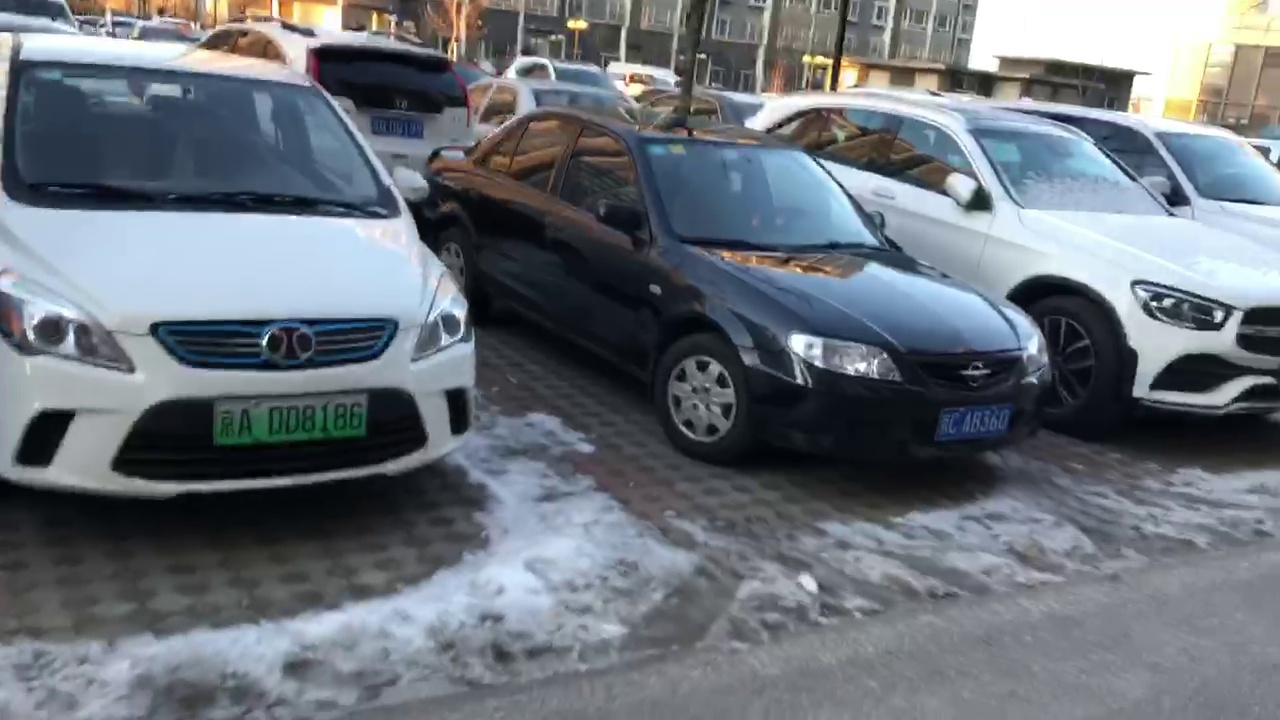plate: (216, 403, 372, 441), (943, 408, 1015, 434)
